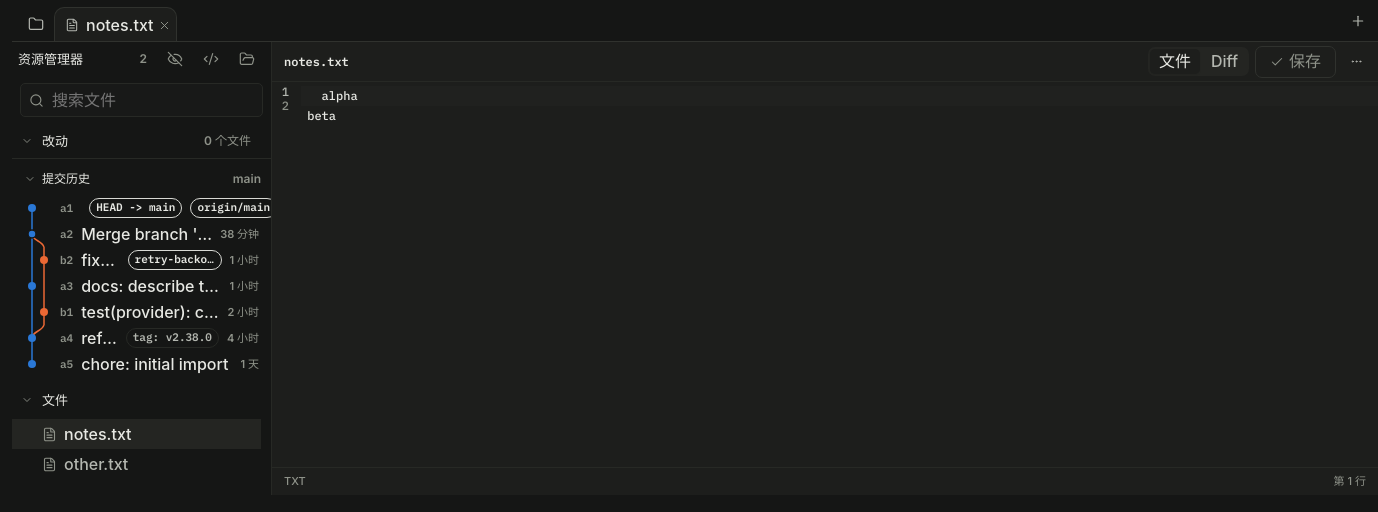
keeps ordinary editing available without a selection and disables cut/copy without offering a quote
Right-click the field labelled "alpha beta".
right_click(840, 104)  # box [301,86,1377,123]
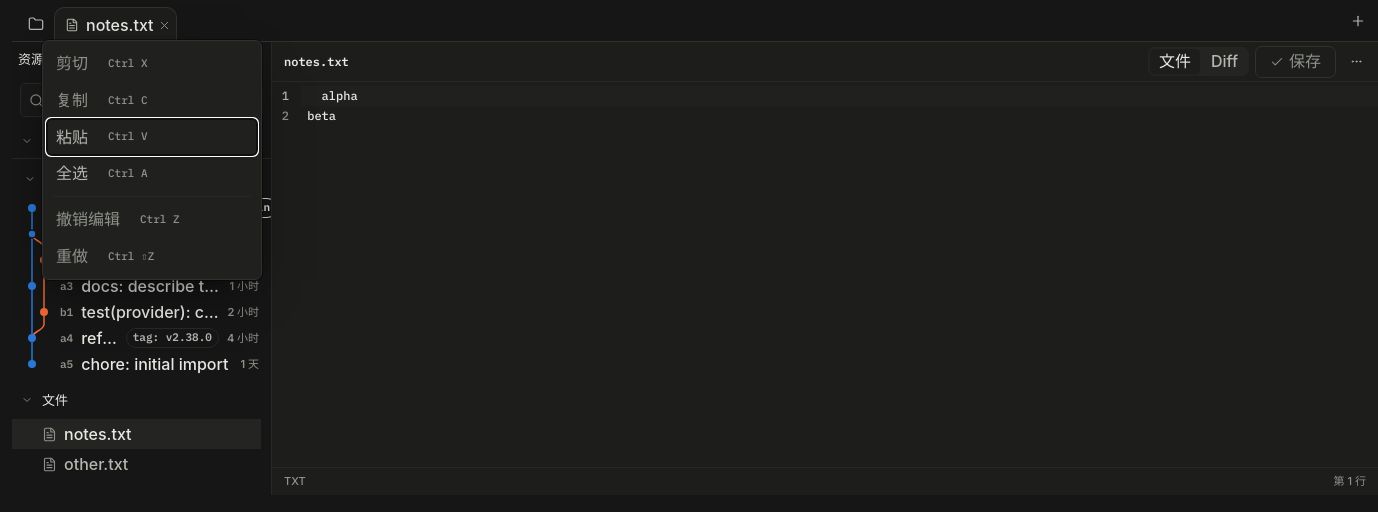
Check: the menu item "全选 Ctrl A" is shown, box [47,155,257,192]
Check: the menu item "剪切 Ctrl X" is disabled, box [47,45,257,82]
Check: the menu item "复制 Ctrl C" is disabled, box [47,82,257,119]
